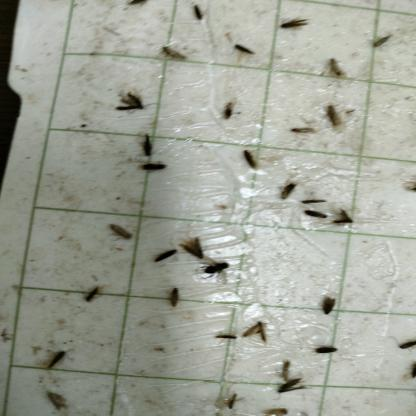prays_oleae: (325, 52, 362, 88), (330, 199, 358, 244), (154, 39, 188, 76), (40, 342, 71, 373), (323, 102, 347, 142), (80, 276, 108, 308), (179, 233, 203, 270), (204, 257, 234, 285), (371, 17, 391, 59), (149, 239, 178, 267), (107, 219, 135, 248), (316, 286, 337, 323), (215, 96, 238, 129), (277, 373, 306, 399), (298, 189, 329, 213), (118, 89, 144, 117), (315, 338, 343, 363), (44, 385, 72, 410), (244, 318, 269, 345), (276, 11, 304, 35), (232, 33, 254, 61), (137, 125, 154, 160), (279, 178, 296, 212), (140, 160, 170, 179), (305, 206, 330, 228), (214, 325, 239, 347), (398, 176, 416, 205), (166, 278, 182, 310), (241, 145, 258, 173), (289, 120, 313, 138)
